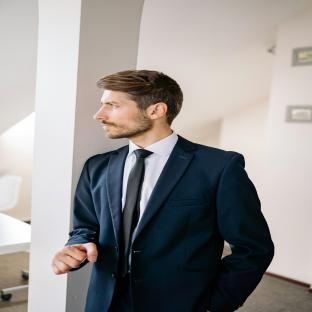Human: (52, 70, 274, 312)
